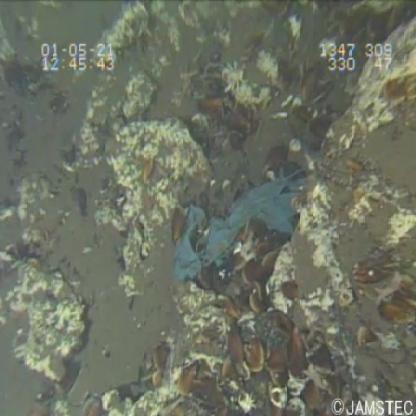Rác: (165, 165, 317, 287)
